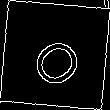O_NE: (21, 22, 89, 88)
